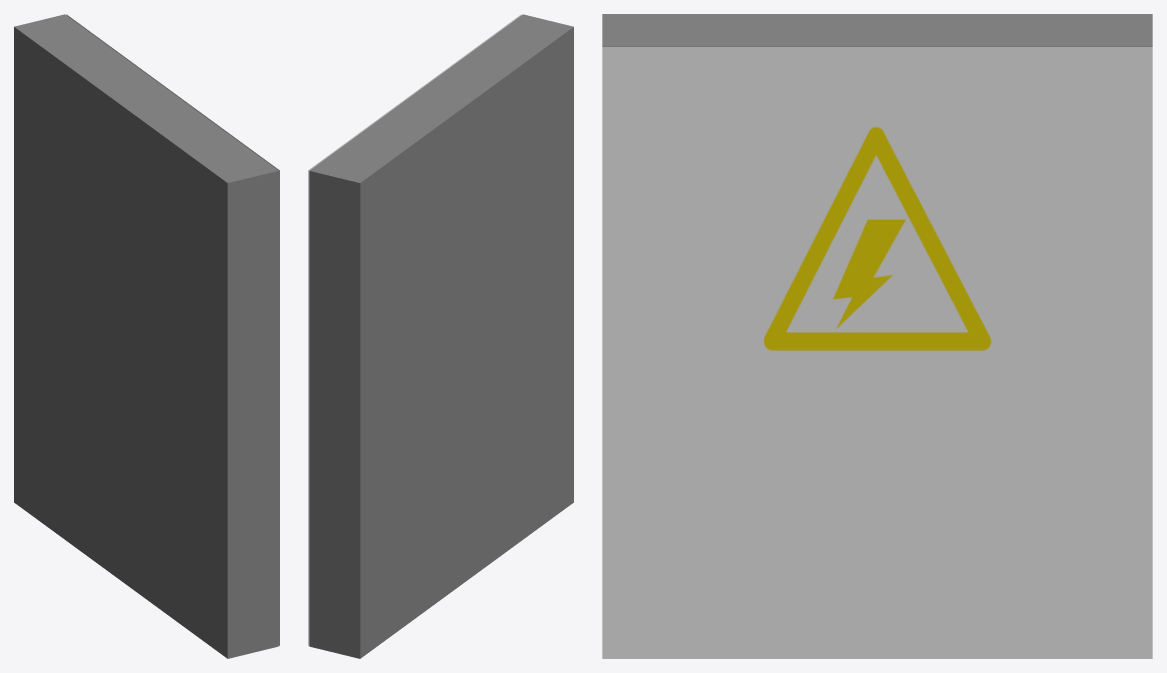
Rendered from Electrical Box No switches.fbx.
3 views of the same model, side by side, from view 1: azimuth 30°, elevation 25°; view 2: azimuth 150°, elevation 25°; view 3: azimuth 270°, elevation 25° (orthographic). The views are drawn at different scales.
Parts seen in each view (by area): view 1: Fuse Box, Door; view 2: Fuse Box, Door; view 3: Door, Fuse Box.
Part boxes in pixels (x1,y1,x2,y2): Fuse Box: [14, 16, 271, 658]; Door: [58, 14, 279, 647]; Fuse Box: [316, 16, 573, 658]; Door: [308, 14, 529, 647]; Door: [602, 41, 1152, 658]; Fuse Box: [602, 14, 1152, 41].
Size of the model in its own units: 22.95 by 200 by 163.
